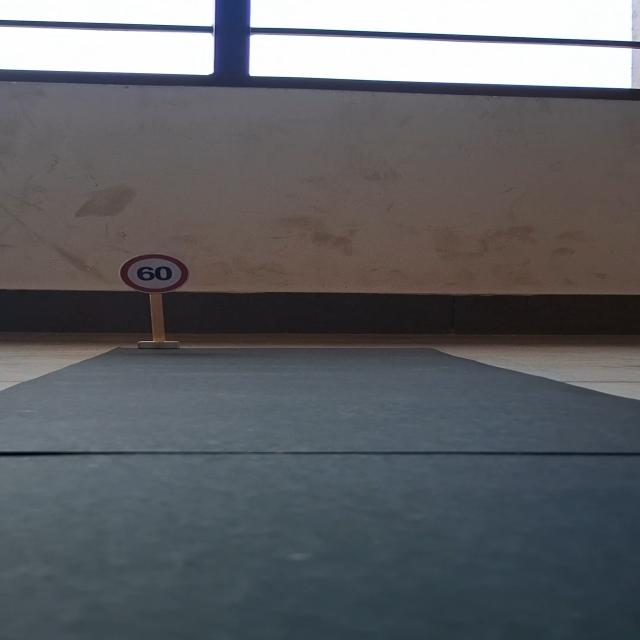Speed60: (120, 252, 190, 293)
